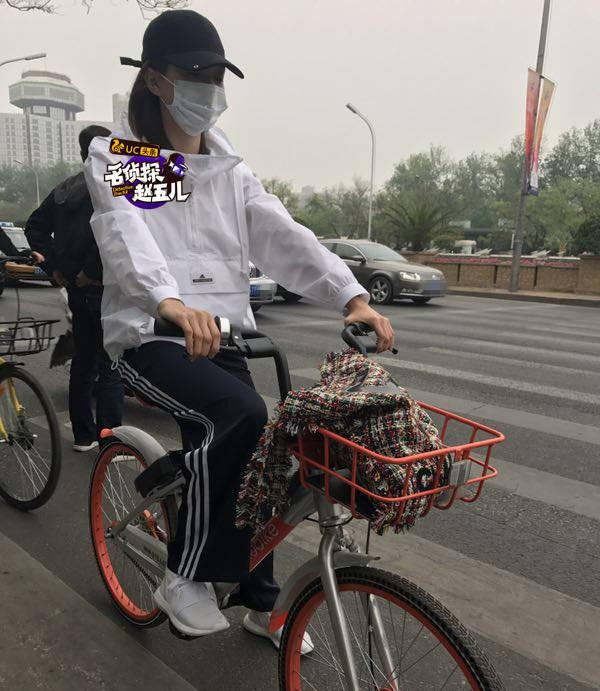face_mask: (167, 69, 227, 136)
